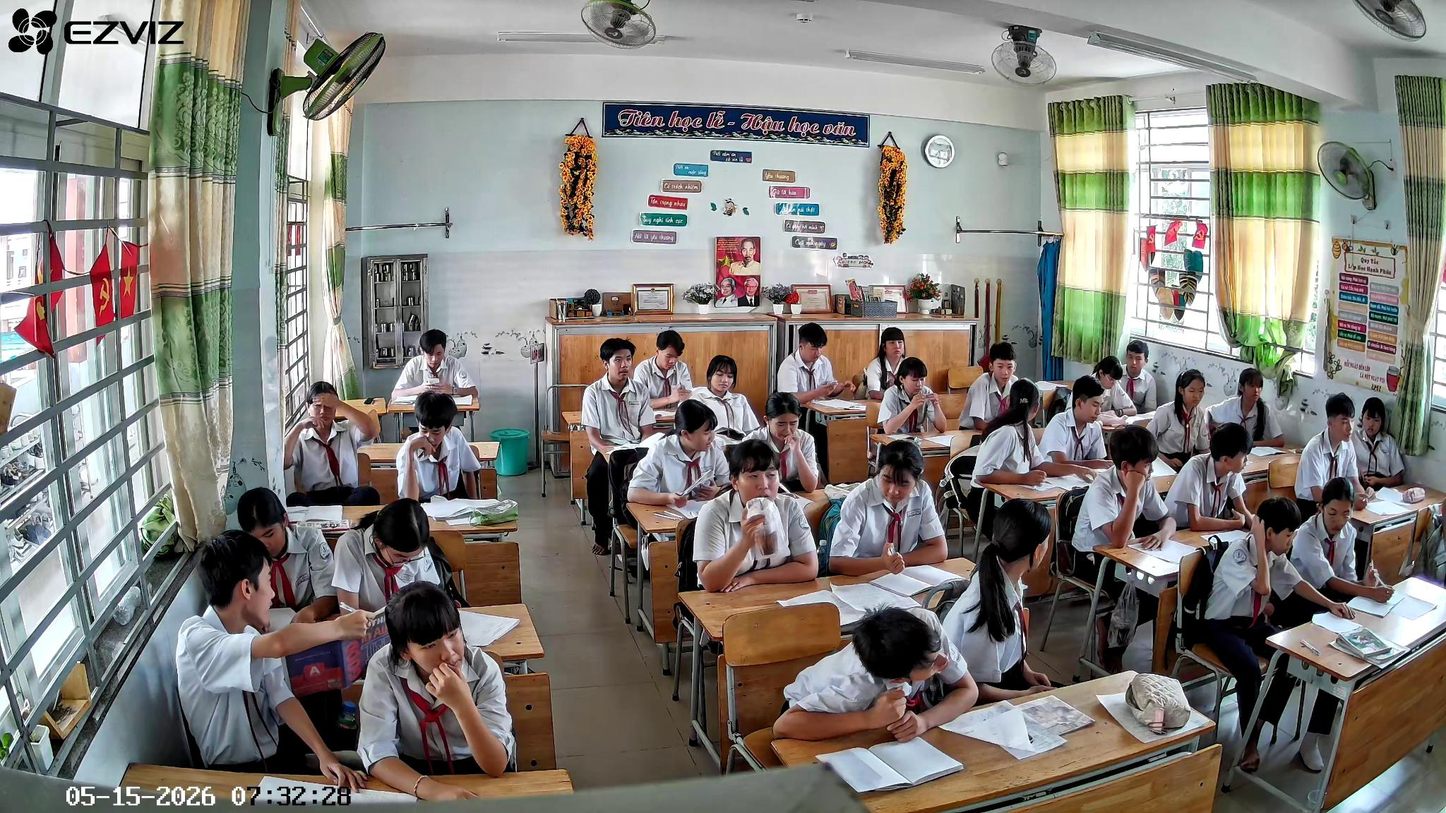person: (171, 528, 381, 793), (1194, 496, 1347, 773), (357, 579, 517, 801), (772, 607, 979, 744), (941, 498, 1054, 707), (692, 438, 821, 591), (1280, 477, 1398, 631), (581, 337, 660, 556), (1071, 424, 1178, 582), (828, 440, 950, 576), (236, 486, 340, 626), (972, 378, 1061, 531), (281, 379, 382, 506), (331, 497, 443, 611), (622, 399, 733, 505), (776, 322, 854, 472), (1168, 421, 1258, 532), (395, 393, 484, 503), (1294, 392, 1369, 510), (742, 392, 822, 495), (1039, 375, 1109, 480), (1204, 368, 1286, 450), (1147, 369, 1210, 474), (695, 354, 762, 452), (390, 328, 479, 399), (1050, 356, 1139, 419), (876, 358, 948, 435), (961, 342, 1018, 435), (1353, 397, 1409, 490), (633, 330, 694, 410), (1106, 340, 1158, 414), (864, 327, 908, 401)
